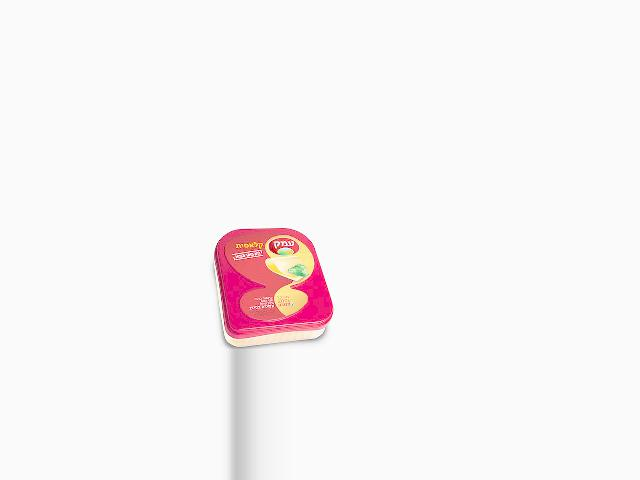cheese: (213, 227, 333, 347)
